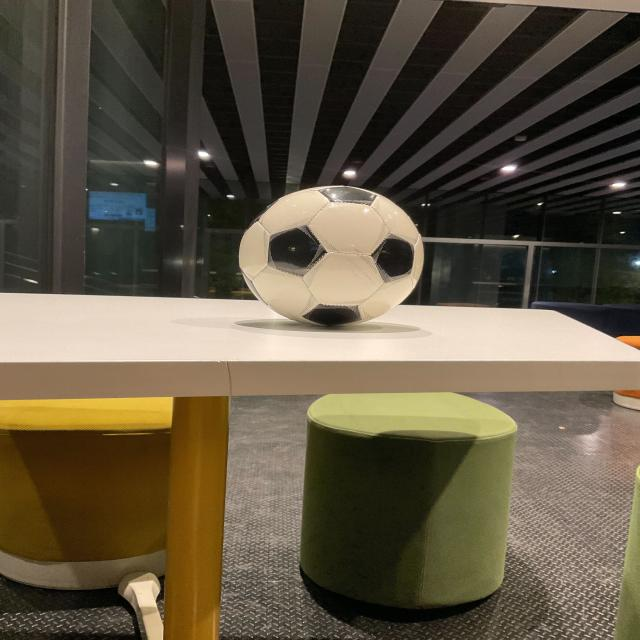ball: (240, 185, 424, 325)
